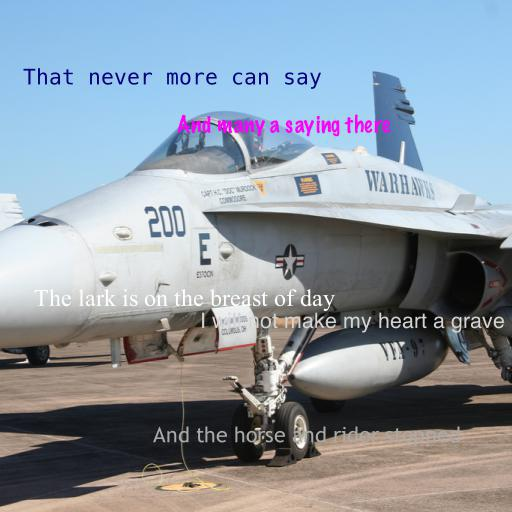Marker Felt: (176, 114, 390, 137)
Menlo: (22, 68, 322, 89)
SignPainter: (199, 312, 505, 333)
Times New Roman: (33, 289, 335, 312)
Trebuchet MS: (153, 426, 461, 447)
